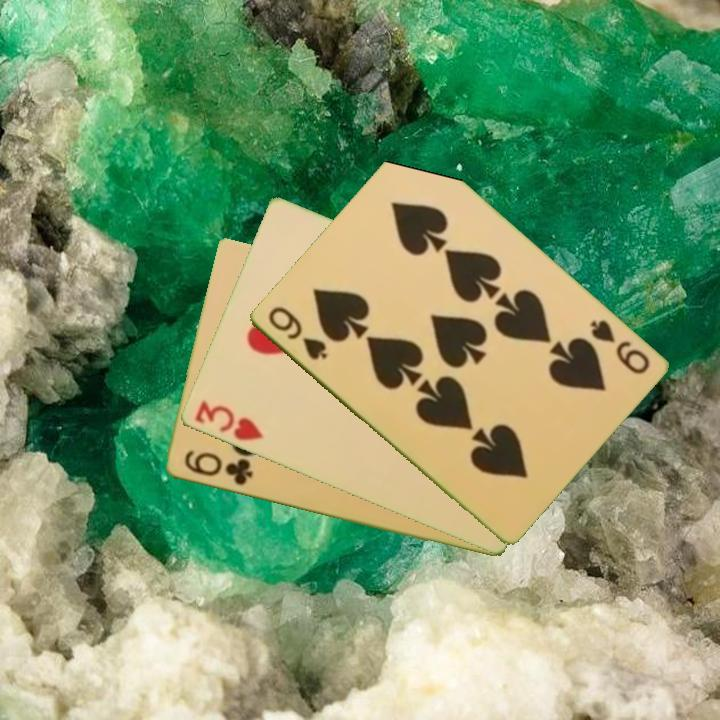3h: (191, 397, 266, 444)
6c: (180, 447, 256, 489)
9s: (585, 316, 652, 378), (263, 302, 330, 363)
